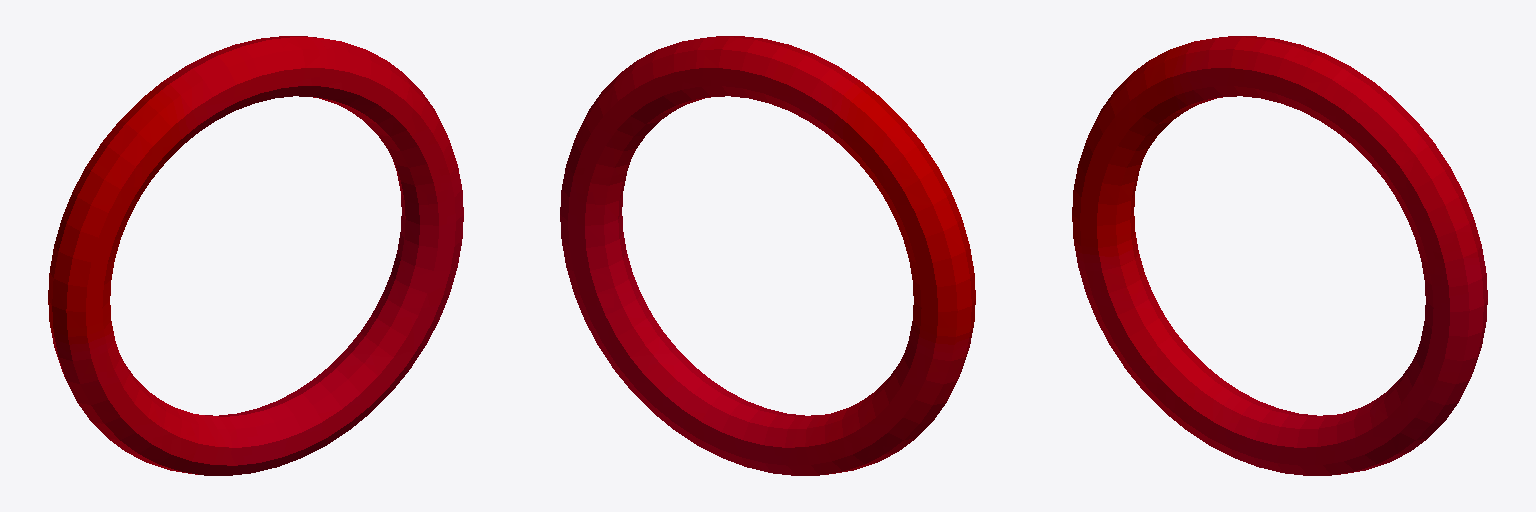
3 views of the same model, side by side, from view 1: azimuth 30°, elevation 25°; view 2: azimuth 150°, elevation 25°; view 3: azimuth 330°, elevation 25° (orthographic).
Visible parts, largest first — view 1: Mesh; view 2: Mesh; view 3: Mesh.
Boxes of the visible parts, x1,y1,x2,y2 form: Mesh: [48, 36, 463, 475]; Mesh: [560, 36, 975, 475]; Mesh: [1072, 36, 1487, 475].
Bounding box in the file's own units: 1.75 × 1.74 × 0.2204.
Materials: 1 (1 with a texture image).